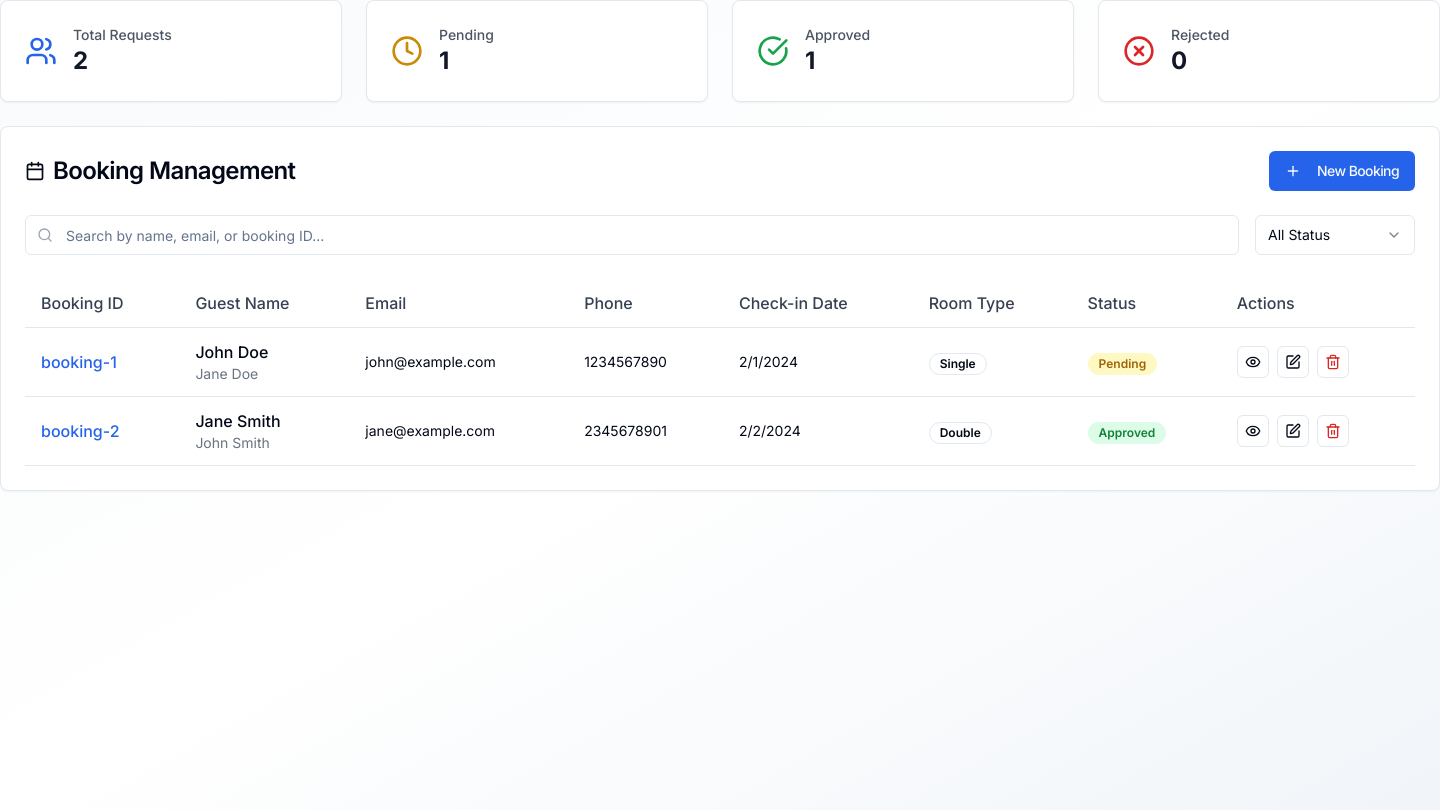
Test: BookingManagement Component › filters bookings by search term
Type "John" into the field with placeholder "Search by name, email, or booking ID..." at (632, 235), box [25,215,1239,255]
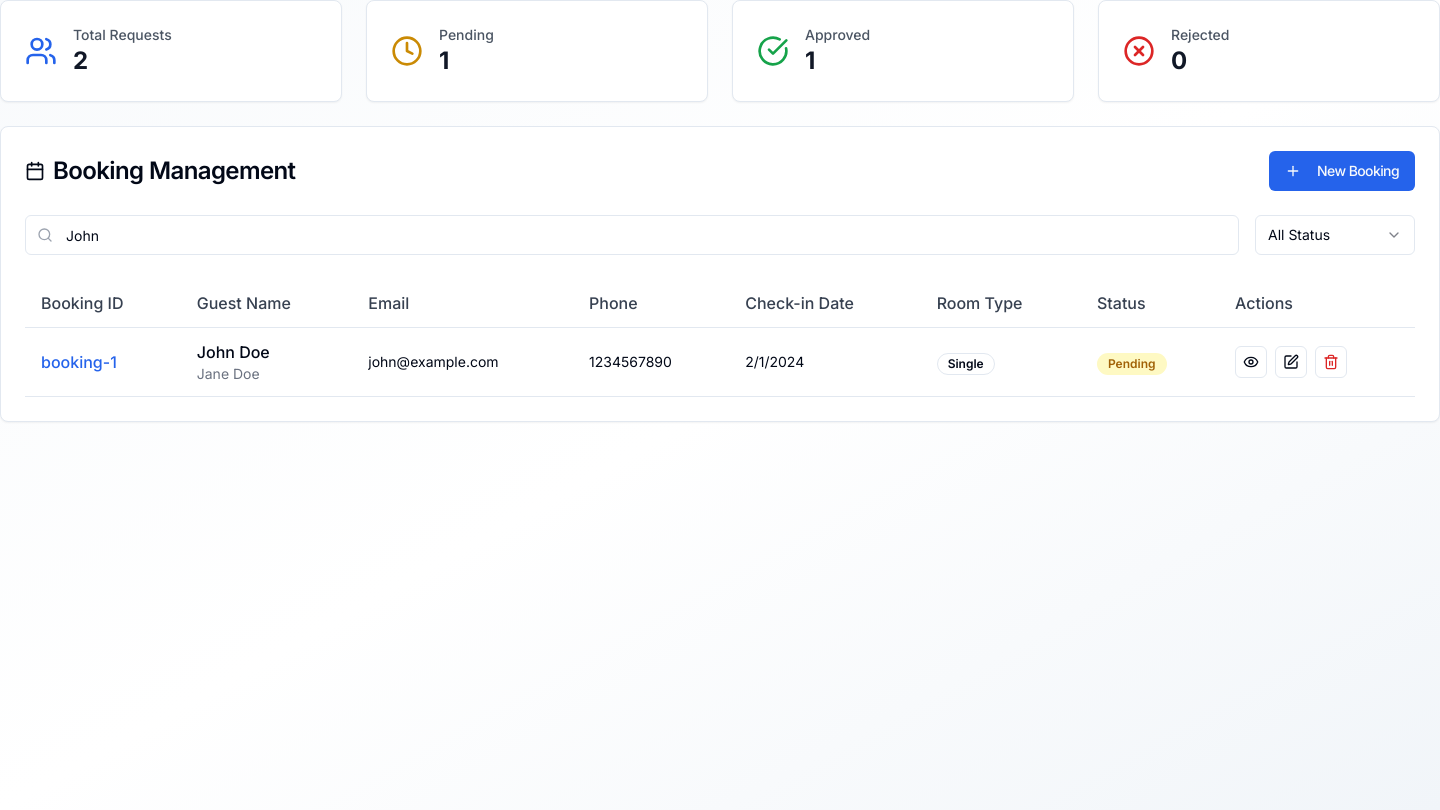
expect the text "John Doe" is shown: met, box [197,342,270,362]
expect the text "Jane Smith" is gone: met
